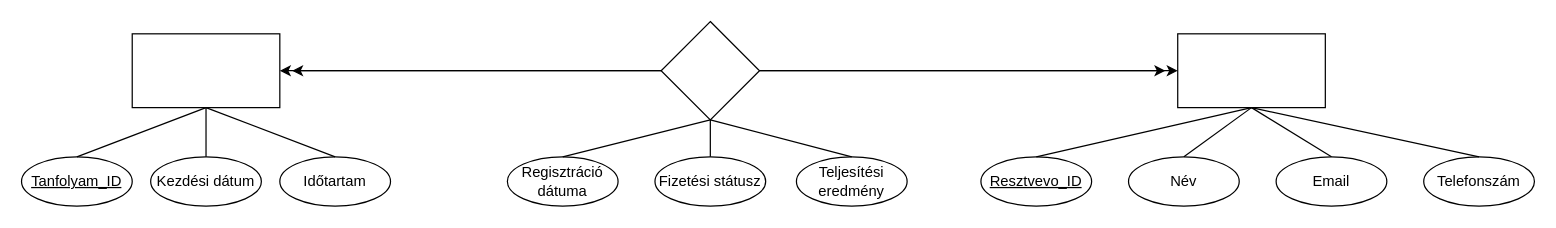
Image size: 1556x228. Some labels were removed from this diagram. The shapes that lost their labels are listed below. From the top down, each one's centre as x and y in pixels, then its label:
At point 205,70: "Tanfolyam".
At point 710,70: "Tanfolyam-Részvétel".
At point 1250,70: "Résztvevő".
